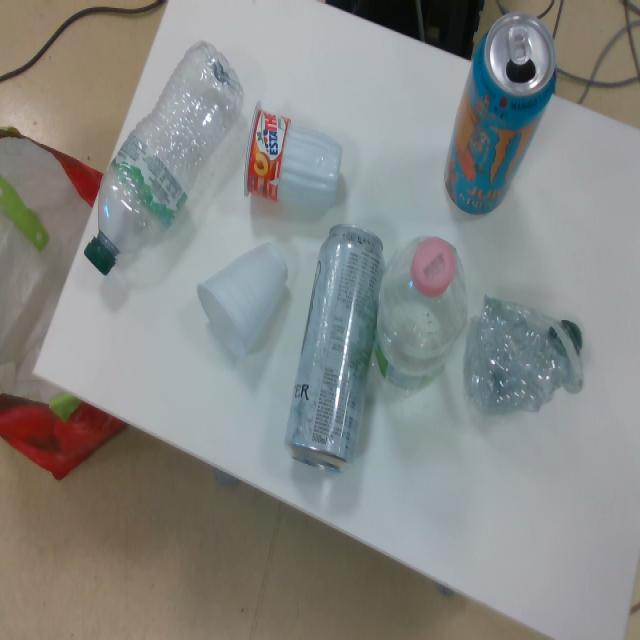aluminum: (284, 224, 385, 476), (442, 13, 560, 218)
plastic: (82, 38, 247, 276), (460, 288, 588, 424), (374, 230, 471, 404), (237, 96, 345, 220), (195, 238, 290, 358)
